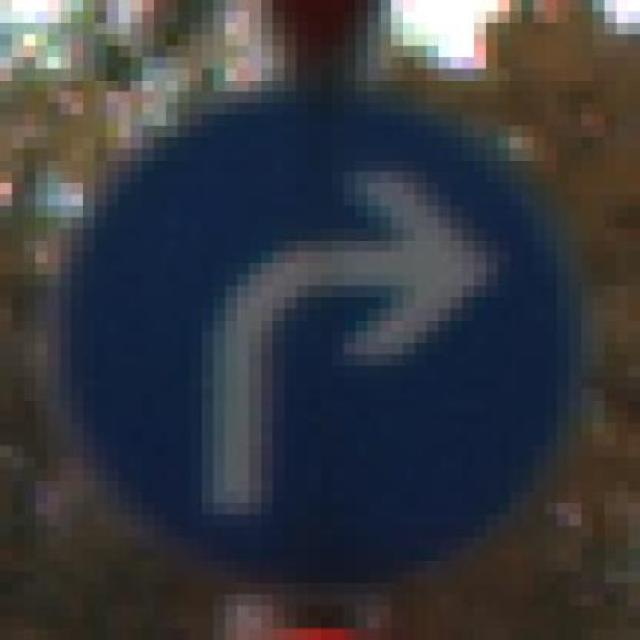Turn right ahead: (59, 80, 593, 583)
